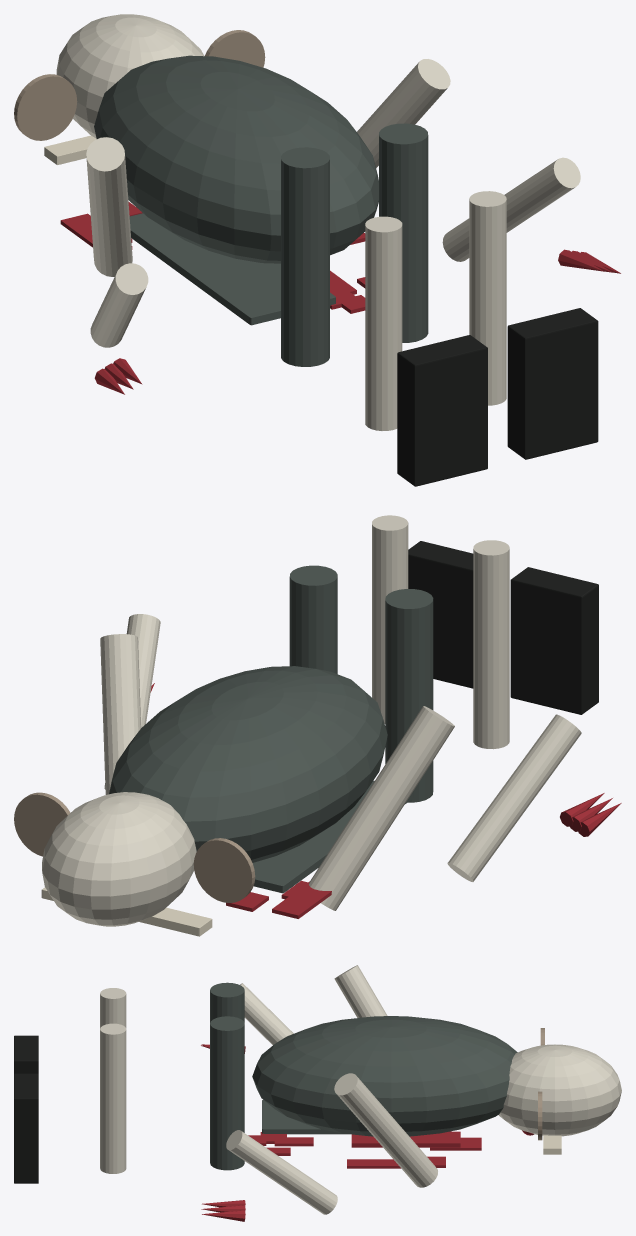
Rendered from dz_blender_blind.glb.
3 views of the same model, one above another, from view 1: azimuth 30°, elevation 25°; view 2: azimuth 150°, elevation 25°; view 3: azimuth 270°, elevation 25° (orthographic). The views are drawn at different scales.
Parts seen in each view (by area): view 1: torso asymetrique, botte humide, botte humide.001, cuisse tissu.001, cuisse tissu, tete infectee, tibia expose, pan manteau dechire, tibia expose.001, bras maigre.001, avant bras griffe, bras maigre (+4 smaller); view 2: torso asymetrique, tete infectee, botte humide.001, bras maigre.001, tibia expose, cuisse tissu.001, botte humide, avant bras griffe.001, cuisse tissu, bras maigre, tibia expose.001, capteur oreille gauche (+5 smaller); view 3: torso asymetrique, tete infectee, cuisse tissu, tibia expose.001, bras maigre, avant bras griffe, botte humide, bras maigre.001, avant bras griffe.001, cuisse tissu.001, pan manteau dechire, plaie torse (+5 smaller).
Boxes of the visible parts, left/top/right/bottom form: torso asymetrique: left=94, top=55, right=378, bottom=263; botte humide: left=507, top=308, right=598, bottom=459; botte humide.001: left=397, top=335, right=487, bottom=486; cuisse tissu.001: left=281, top=147, right=329, bottom=366; cuisse tissu: left=379, top=123, right=428, bottom=342; tete infectee: left=56, top=14, right=204, bottom=138; tibia expose: left=365, top=216, right=402, bottom=430; pan manteau dechire: left=129, top=213, right=335, bottom=325; tibia expose.001: left=469, top=191, right=506, bottom=405; bras maigre.001: left=86, top=137, right=132, bottom=276; avant bras griffe: left=442, top=157, right=580, bottom=261; bras maigre: left=357, top=59, right=450, bottom=168; torso asymetrique: left=109, top=666, right=387, bottom=862; tete infectee: left=42, top=792, right=196, bottom=926; botte humide.001: left=510, top=567, right=598, bottom=714; bras maigre.001: left=309, top=706, right=454, bottom=910; tibia expose: left=473, top=540, right=509, bottom=749; cuisse tissu.001: left=385, top=589, right=433, bottom=802; botte humide: left=408, top=541, right=473, bottom=688; avant bras griffe.001: left=447, top=714, right=581, bottom=881; cuisse tissu: left=289, top=565, right=337, bottom=673; bras maigre: left=100, top=634, right=141, bottom=794; tibia expose.001: left=372, top=515, right=408, bottom=723; capteur oreille gauche: left=193, top=838, right=255, bottom=902; torso asymetrique: left=252, top=1016, right=517, bottom=1136; tete infectee: left=498, top=1044, right=621, bottom=1136; cuisse tissu: left=210, top=1016, right=244, bottom=1170; tibia expose.001: left=100, top=1023, right=126, bottom=1173; bras maigre: left=334, top=1073, right=437, bottom=1187; avant bras griffe: left=226, top=1130, right=337, bottom=1214; botte humide: left=14, top=1073, right=38, bottom=1183; bras maigre.001: left=334, top=965, right=387, bottom=1017; avant bras griffe.001: left=240, top=983, right=293, bottom=1044; cuisse tissu.001: left=210, top=982, right=244, bottom=1022; pan manteau dechire: left=262, top=1100, right=450, bottom=1134; plaie torse: left=351, top=1131, right=460, bottom=1147.
Size of the model in its own units: 1.65 by 0.6622 by 2.5.
